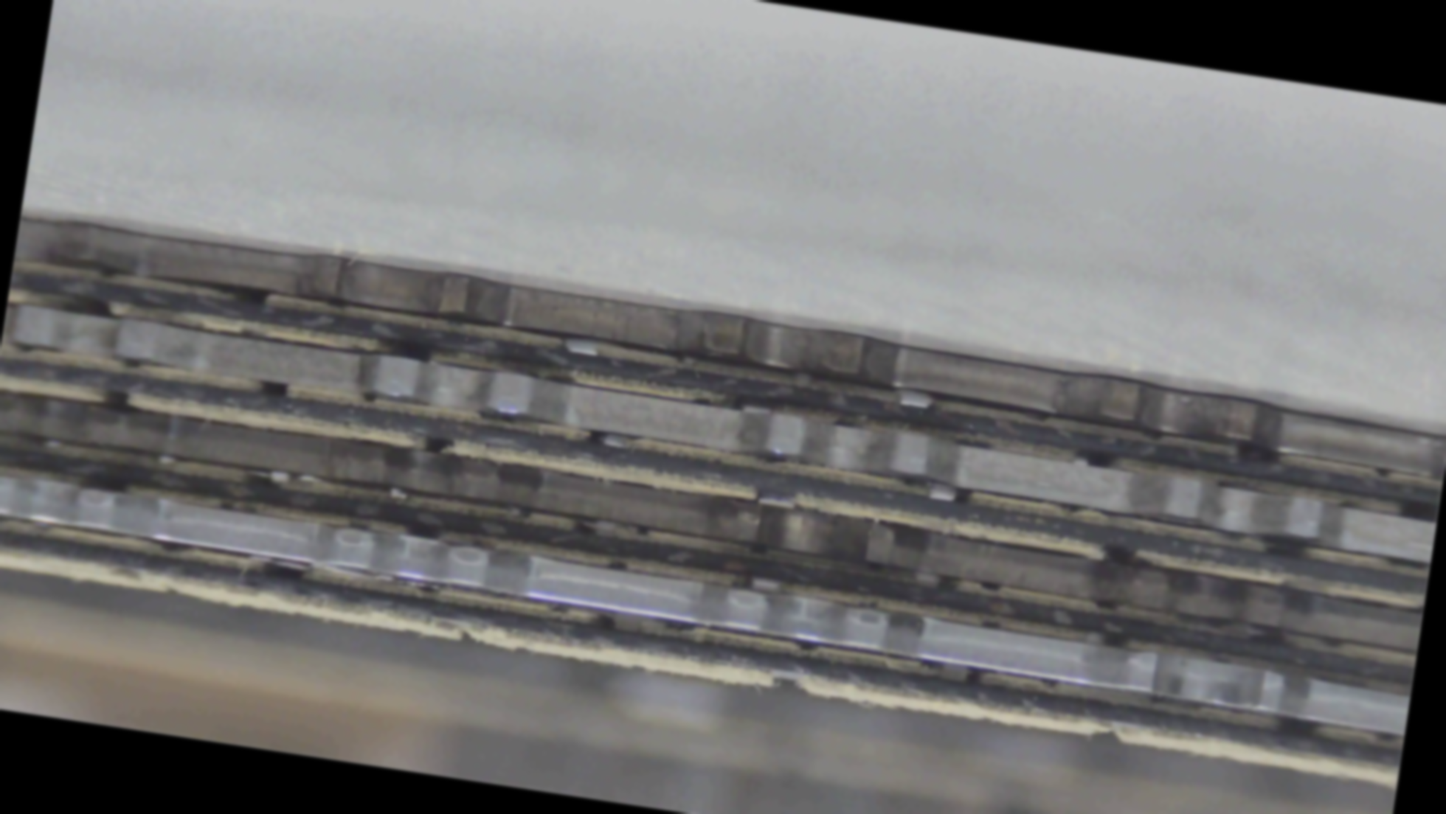Black metal plate: (92, 7, 1436, 591), (0, 442, 1445, 498)
shiney metal plate: (0, 14, 1375, 414), (0, 358, 1445, 411)
spacer: (37, 117, 1446, 374), (10, 268, 1441, 505), (30, 551, 1446, 752), (0, 319, 1445, 357)
